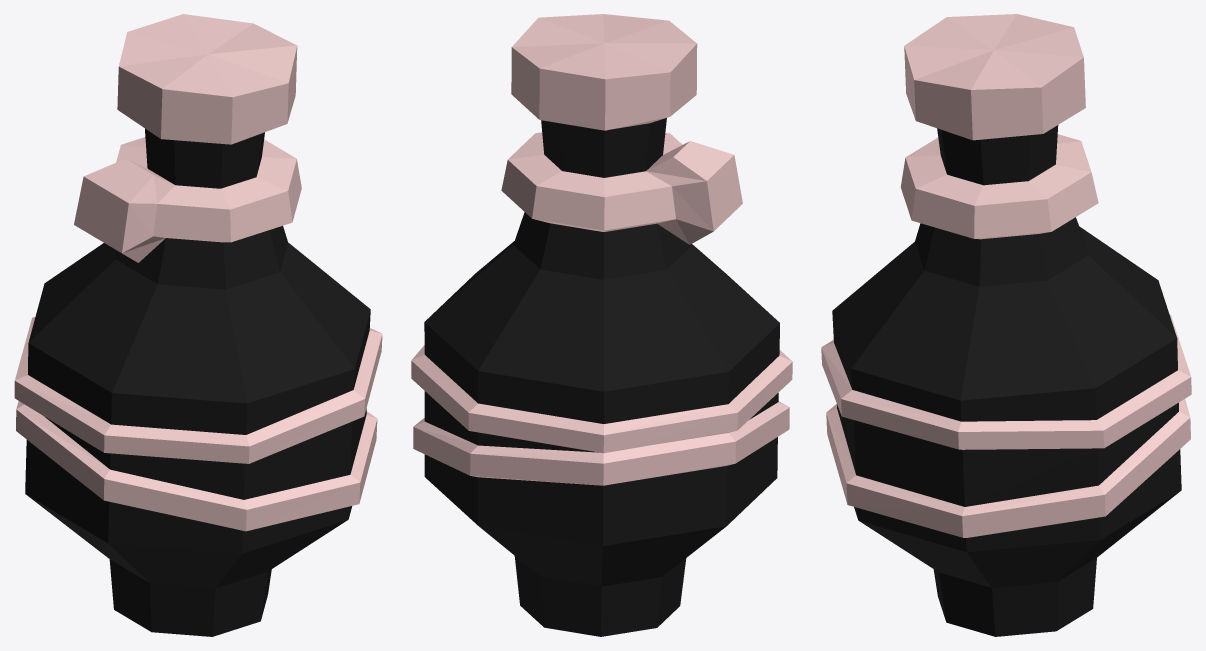
File: SM_Item_Potion_Attachment_01.glb
3 views of the same model, side by side, from view 1: azimuth 30°, elevation 25°; view 2: azimuth 150°, elevation 25°; view 3: azimuth 270°, elevation 25° (orthographic).
Parts seen in each view (by area): view 1: SM_Item_Potion_Attachment_01_00; view 2: SM_Item_Potion_Attachment_01_00; view 3: SM_Item_Potion_Attachment_01_00.
Part boxes in pixels (bbox=[...]): SM_Item_Potion_Attachment_01_00: bbox=[14, 14, 382, 636]; SM_Item_Potion_Attachment_01_00: bbox=[411, 14, 792, 636]; SM_Item_Potion_Attachment_01_00: bbox=[821, 14, 1191, 636].
Size of the model in its own units: 0.1147 by 0.1917 by 0.1147.
Materials: 1 (1 with a texture image).
